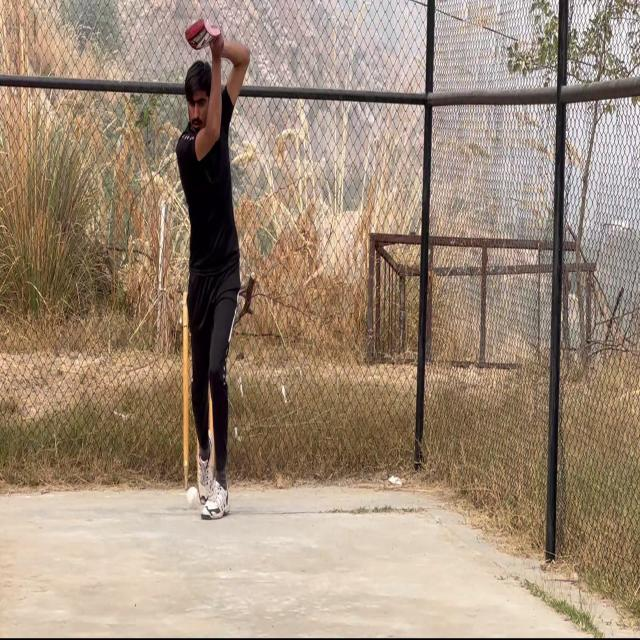Batsman: (172, 42, 255, 529)
